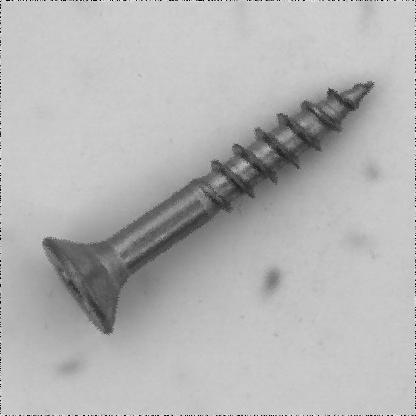metal: (41, 79, 375, 334)
